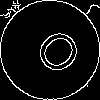O: (25, 25, 85, 85)
